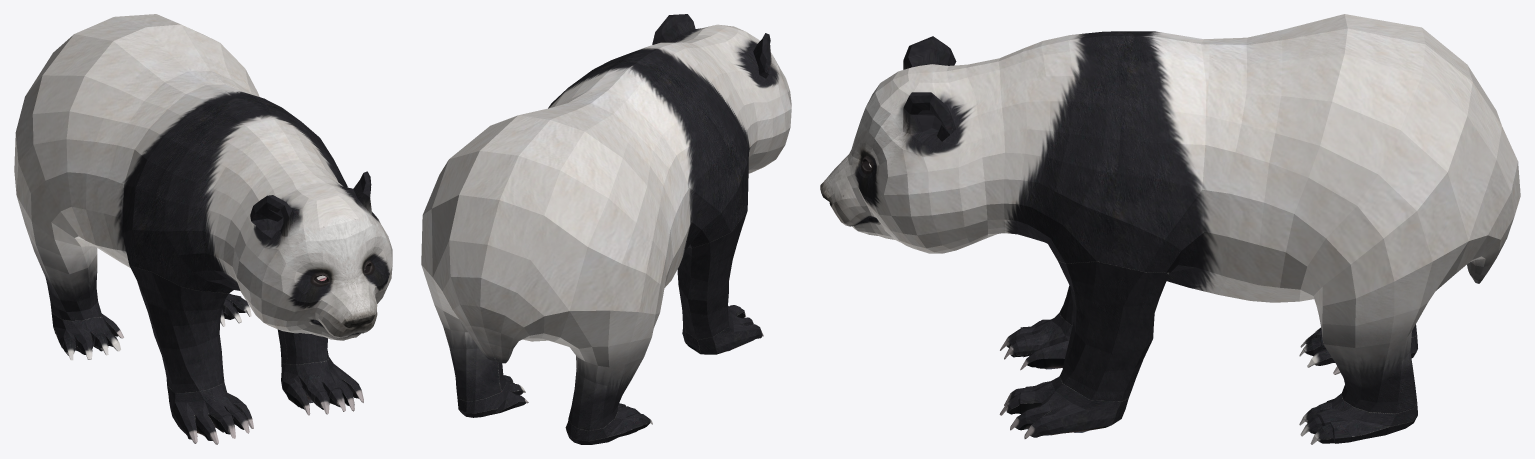
The model's file is OsoPanda.obj.
The picture shows the model from 3 angles, left to right: view 1: azimuth 30°, elevation 25°; view 2: azimuth 150°, elevation 25°; view 3: azimuth 270°, elevation 25°; orthographic projection. The views are drawn at different scales.
Visible parts, largest first — view 1: polySurface25 pander; view 2: polySurface25 pander; view 3: polySurface25 pander.
Part boxes in pixels (x1,y1,x2,y2): polySurface25 pander: [14, 14, 392, 444]; polySurface25 pander: [421, 14, 791, 444]; polySurface25 pander: [820, 14, 1520, 444].
Bounding box in the file's own units: 1.59 × 2.02 × 3.51.
Materials: 1 (1 with a texture image).
